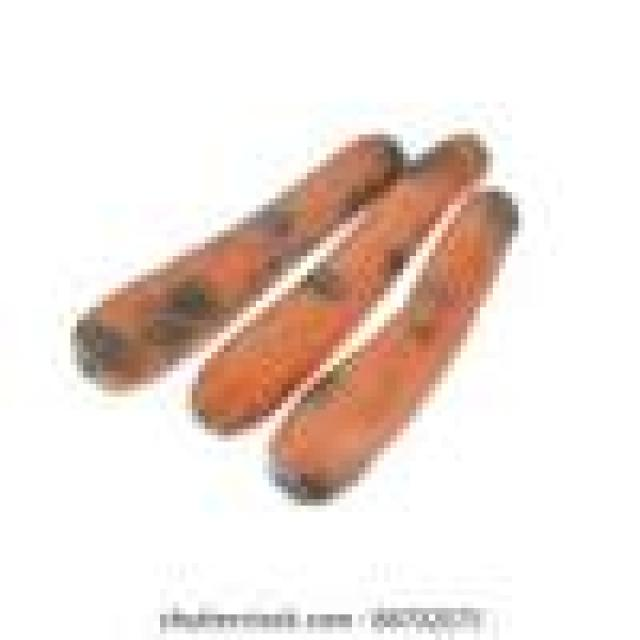Stale_Carrot: (185, 115, 507, 442), (57, 121, 426, 401), (262, 162, 477, 512)
